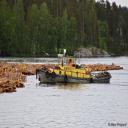tugboat: (36, 39, 114, 88)
